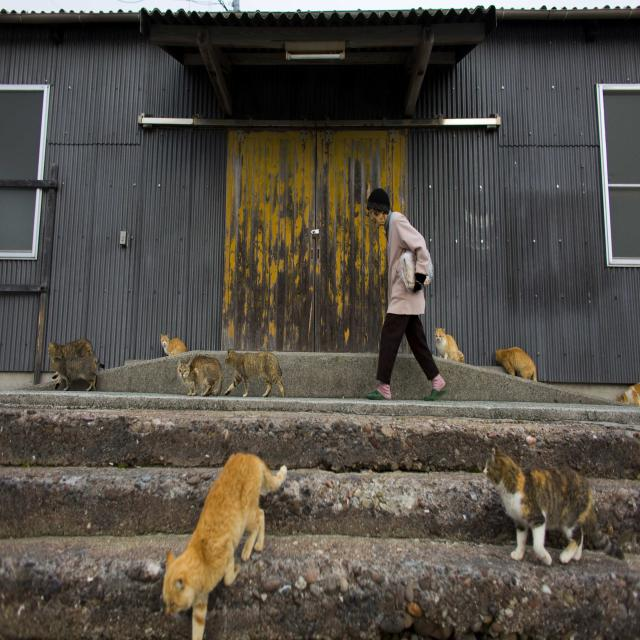cat: (162, 454, 286, 639), (484, 446, 624, 565), (225, 349, 285, 398), (178, 355, 222, 396), (50, 355, 99, 390), (495, 347, 538, 381), (435, 328, 464, 362), (48, 338, 95, 358), (160, 334, 186, 355), (616, 383, 640, 405)
